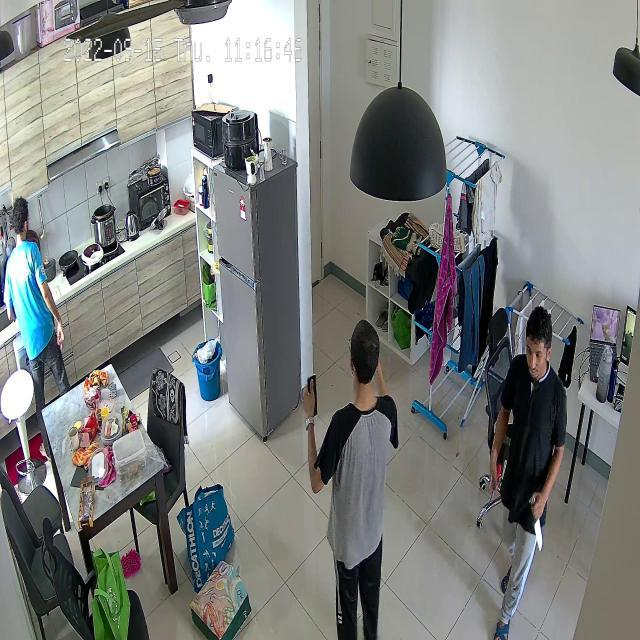Knife: (517, 492, 551, 561)
